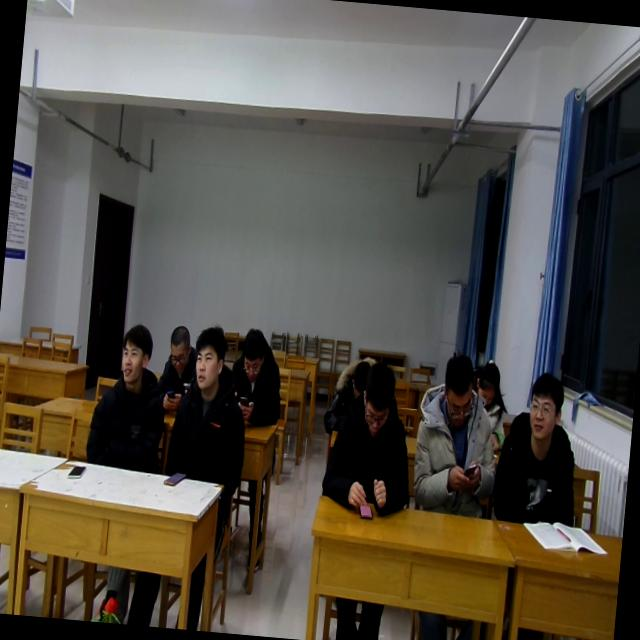bow: (224, 326, 288, 430), (321, 354, 380, 441), (153, 322, 200, 418)
down: (436, 346, 482, 432), (358, 358, 398, 442), (236, 318, 272, 384), (474, 352, 506, 408), (164, 320, 192, 378), (344, 360, 370, 408)
lookup: (521, 366, 568, 447), (187, 314, 232, 395), (114, 314, 156, 396)
sit: (318, 356, 421, 519), (408, 349, 506, 517), (162, 318, 256, 484), (492, 368, 588, 528), (81, 318, 172, 472), (463, 352, 513, 452)
